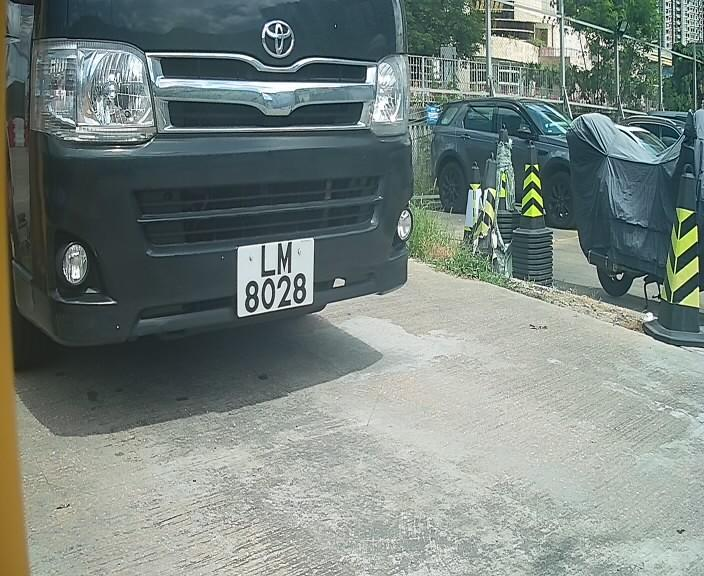License Plate: (227, 235, 321, 319)
